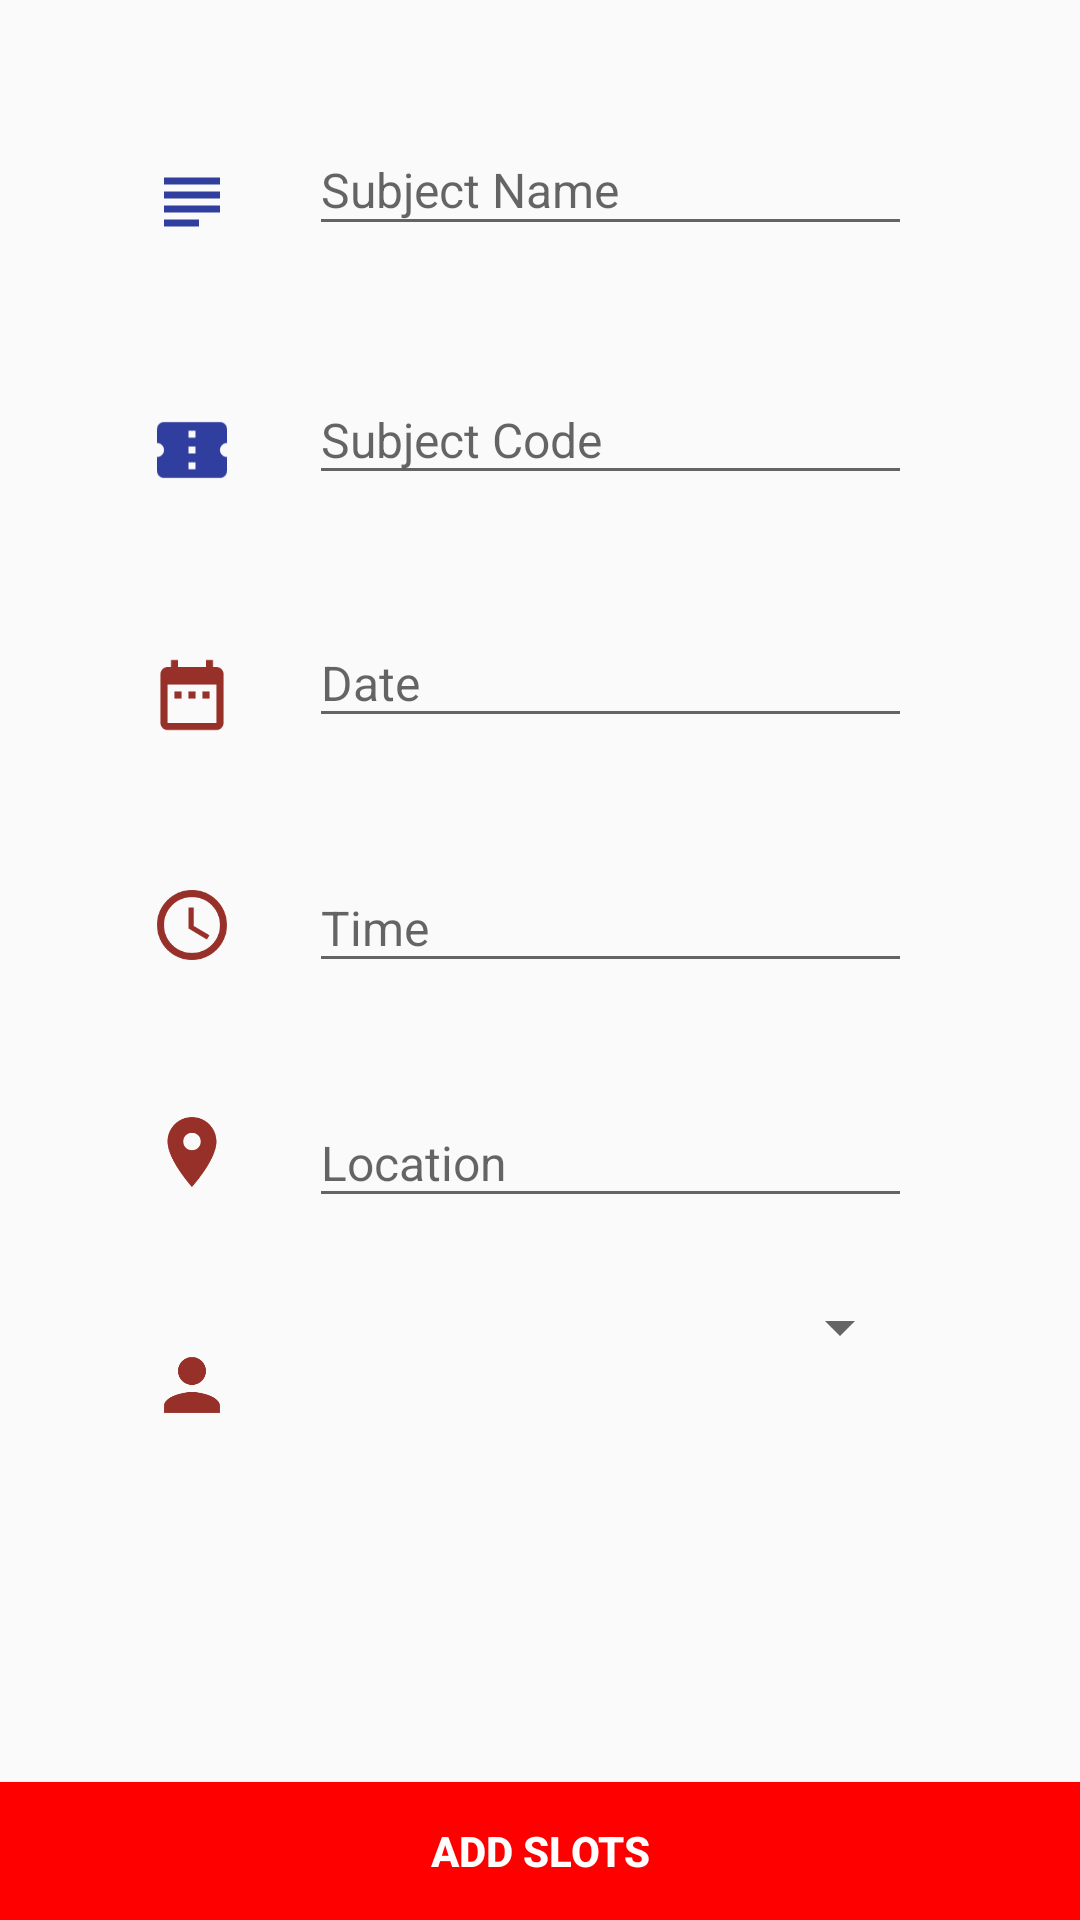

Where icons sit on this 1080 × 1920 app screen, as (x1, y1, x2, y2):
confirmation number: (157, 422, 227, 478)
person: (164, 1357, 220, 1413)
